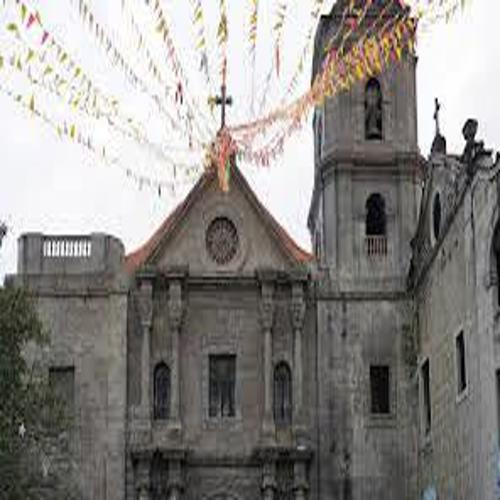San Agustin Church: (121, 1, 418, 500)
